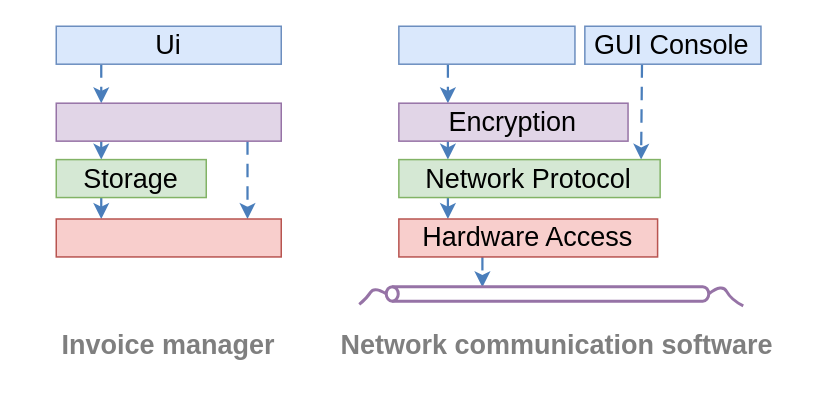
The diagram is 822 pixels wide and 395 high, and some of its shapes have lost their labels. The shapes that lost their labels are listed below. From the top down, each one's centre as x and y in pixels, then its label:
pixel 486 44: FTP Access
pixel 168 121: Logic
pixel 168 237: Model
